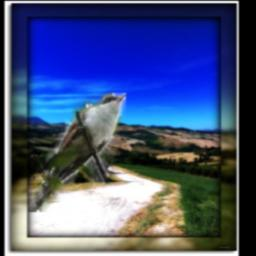Cuckoo: (29, 93, 127, 212)
